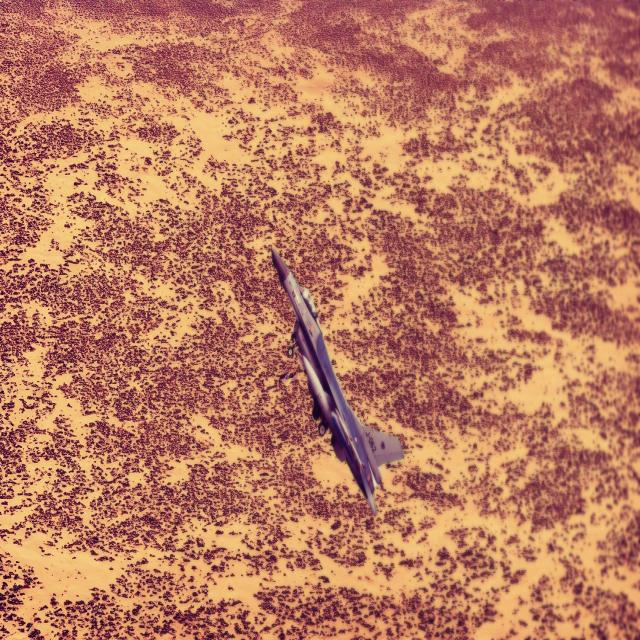airplane: (270, 244, 404, 515)
